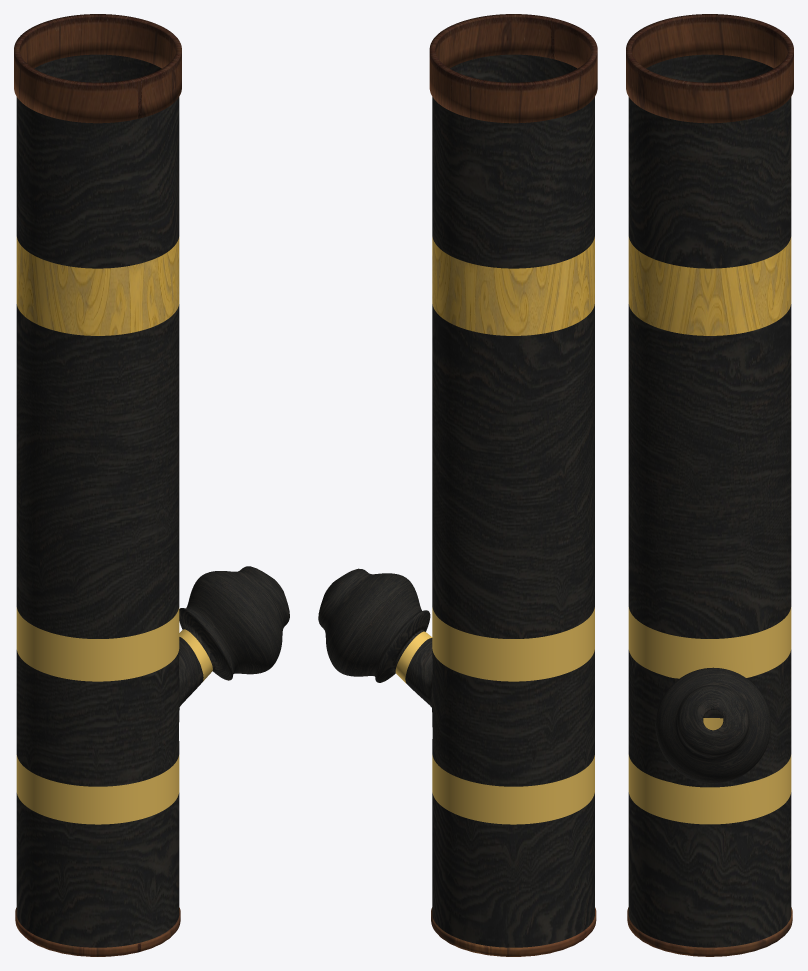
Rendered from GAME-Thuoc_lao.fbx.
3 views of the same model, side by side, from view 1: azimuth 30°, elevation 25°; view 2: azimuth 150°, elevation 25°; view 3: azimuth 270°, elevation 25° (orthographic).
Parts seen in each view (by area): view 1: Cylinder.001, Cylinder.006, Cylinder.007, Cylinder.005; view 2: Cylinder.001, Cylinder.006, Cylinder.007, Cylinder.005; view 3: Cylinder.001, Cylinder.006, Cylinder.007, Cylinder.005.
Part boxes in pixels (box(x1,y1,x2,y2)): Cylinder.001: box(16, 54, 289, 947); Cylinder.006: box(14, 14, 181, 956); Cylinder.007: box(16, 607, 212, 824); Cylinder.005: box(16, 237, 179, 335); Cylinder.001: box(318, 54, 594, 947); Cylinder.006: box(429, 14, 597, 956); Cylinder.007: box(395, 607, 594, 824); Cylinder.005: box(432, 237, 594, 335); Cylinder.001: box(628, 54, 791, 947); Cylinder.006: box(626, 14, 793, 956); Cylinder.007: box(628, 607, 791, 824); Cylinder.005: box(628, 237, 791, 335).
Bounding box in the file's own units: 53.29 × 173 × 29.92.
